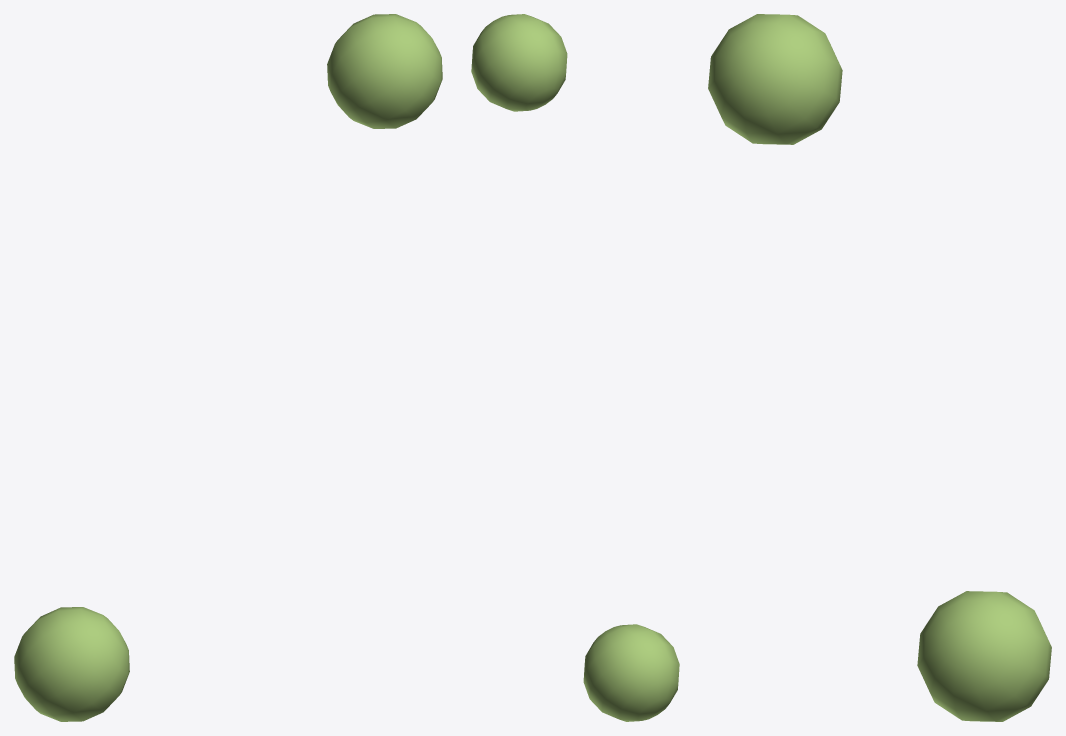
File: ileocolic-nodes.glb
3 renders of one model, left to right at view 1: azimuth 30°, elevation 25°; view 2: azimuth 150°, elevation 25°; view 3: azimuth 270°, elevation 25°, orthographic. The views are drawn at different scales.
Visible parts, largest first — view 1: Ileocolic nodes; view 2: Ileocolic nodes; view 3: Ileocolic nodes.
Part boxes in pixels (x1,y1,x2,y2): Ileocolic nodes: (14,14,442,721); Ileocolic nodes: (471,14,679,721); Ileocolic nodes: (708,14,1051,721).
Bounding box in the file's own units: 0.00828 × 0.0173 × 0.00654.
